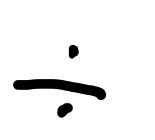div: (14, 45, 106, 117)
